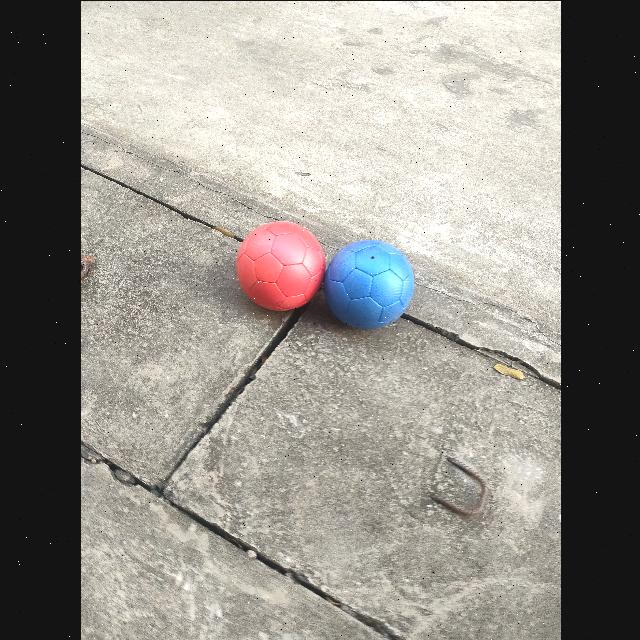B: (322, 239, 413, 329)
R: (236, 220, 324, 310)
